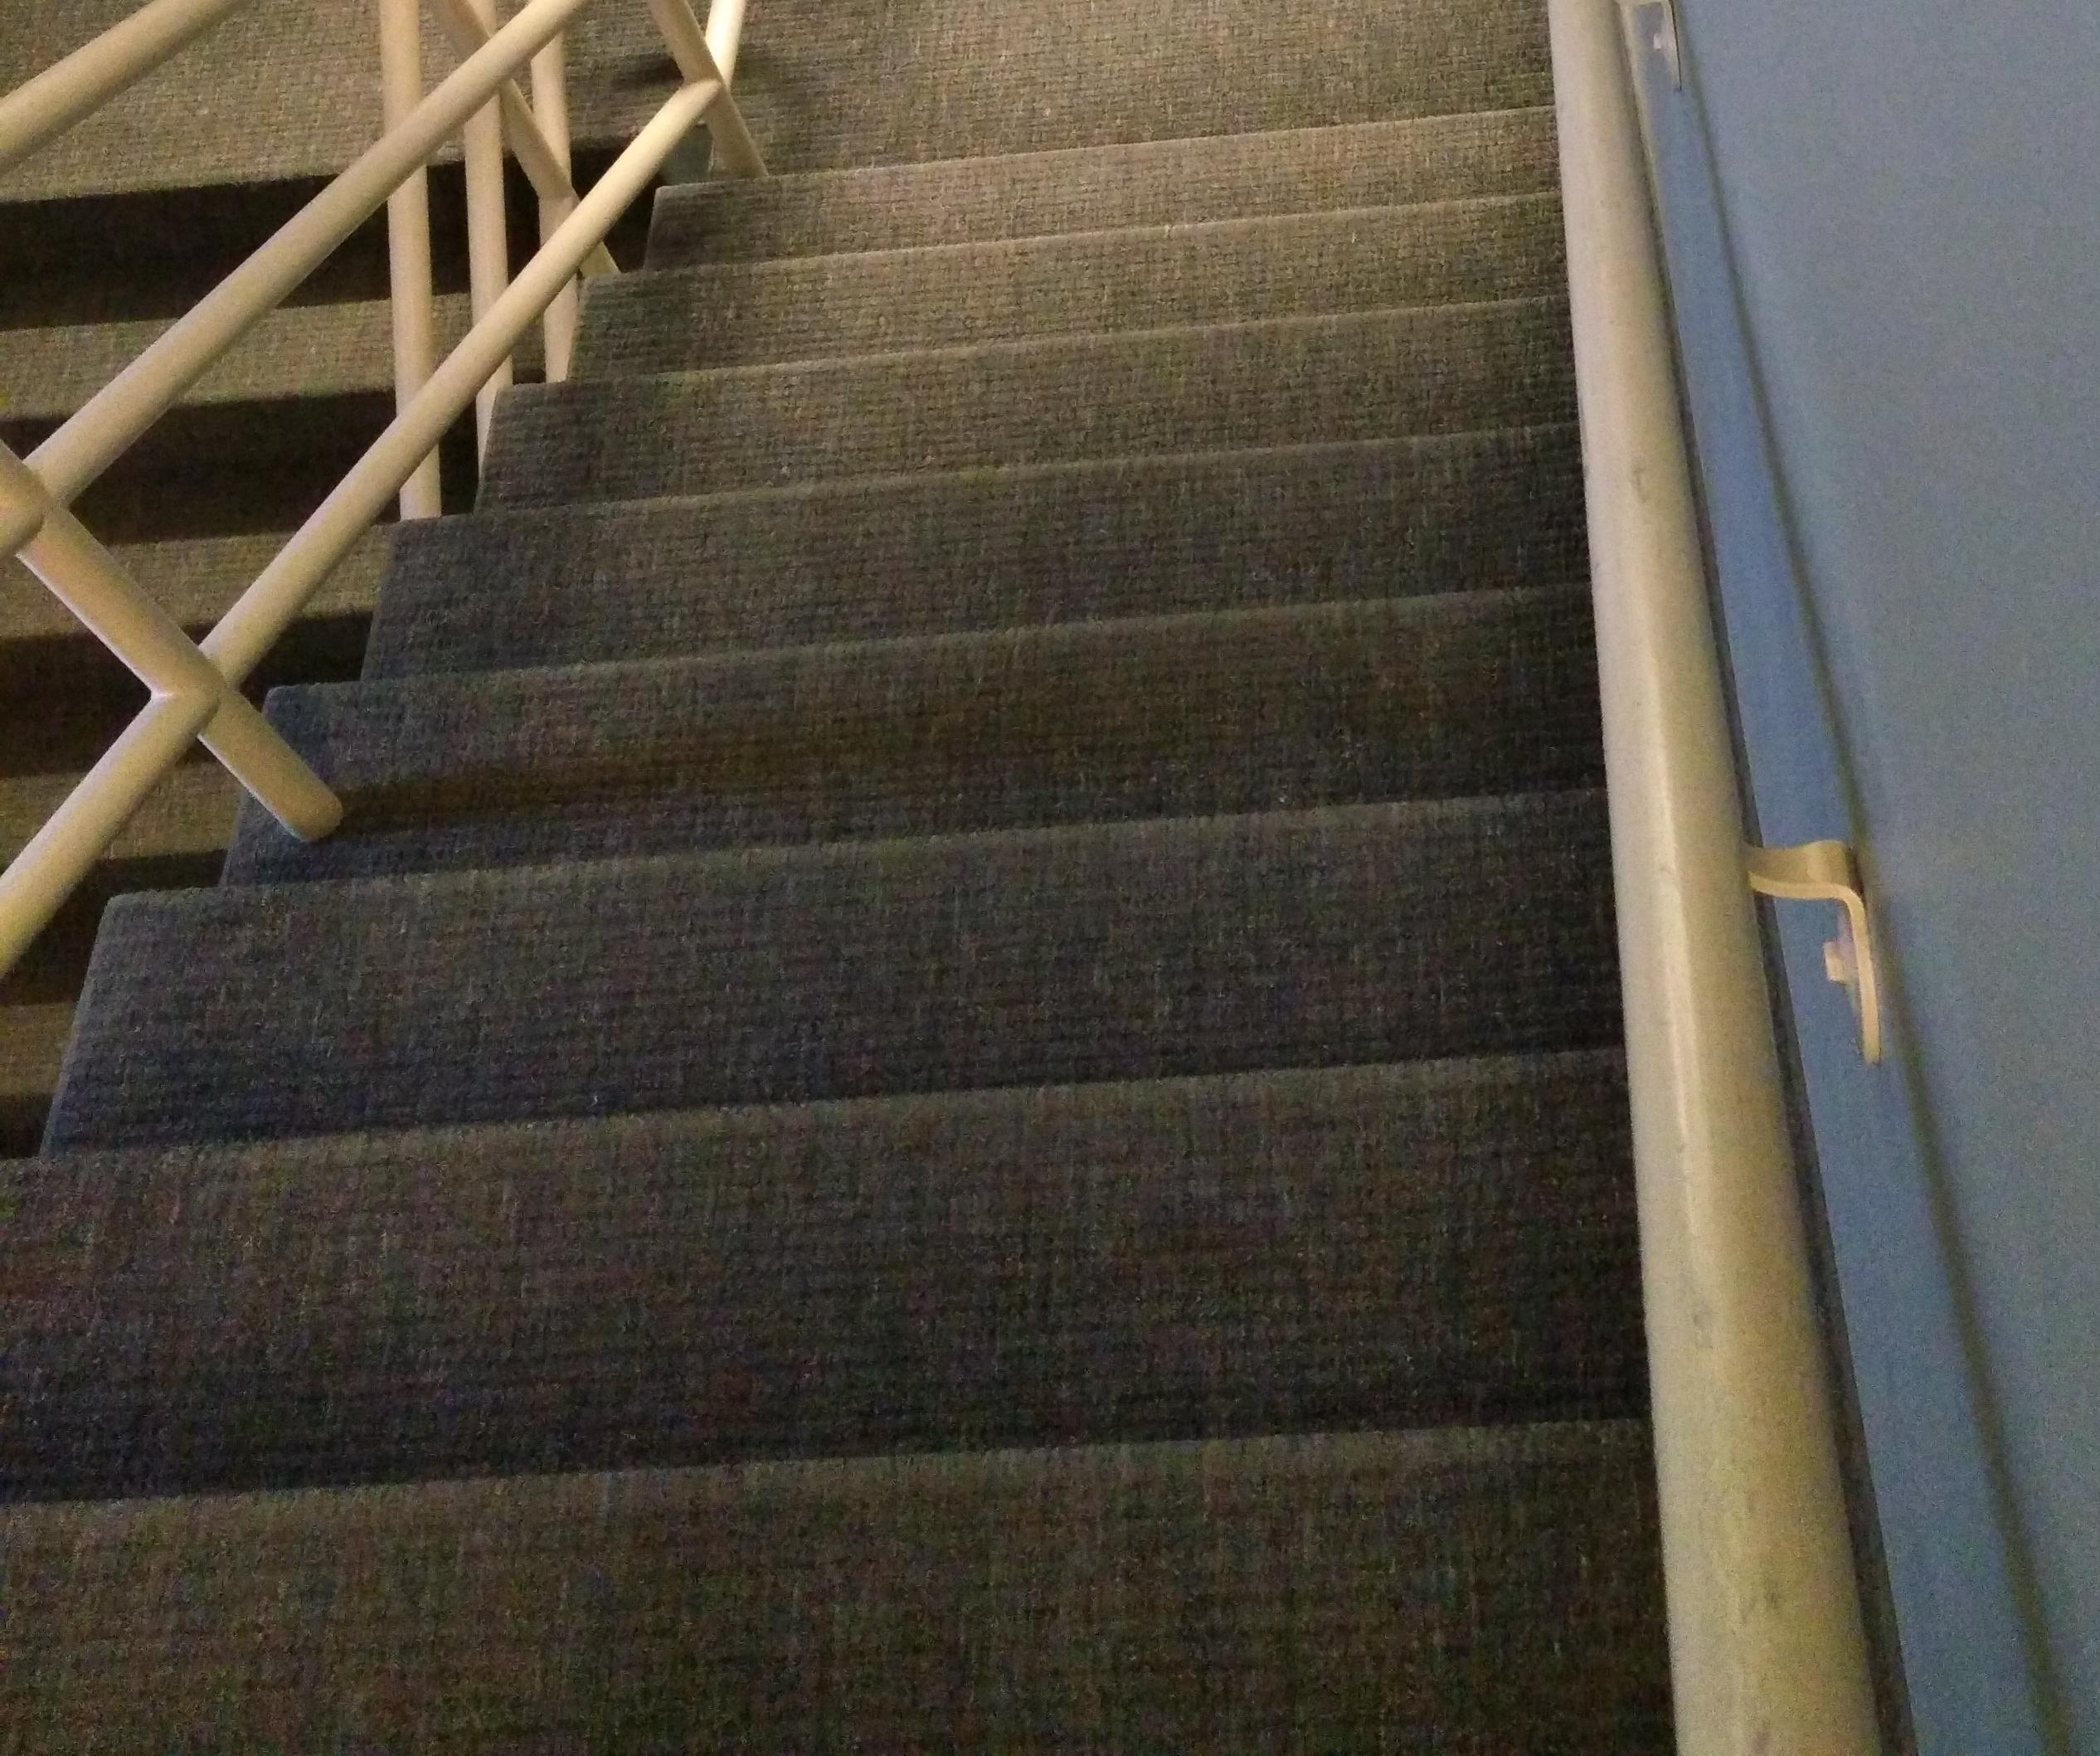stairs_down: (363, 96, 1584, 1625)
